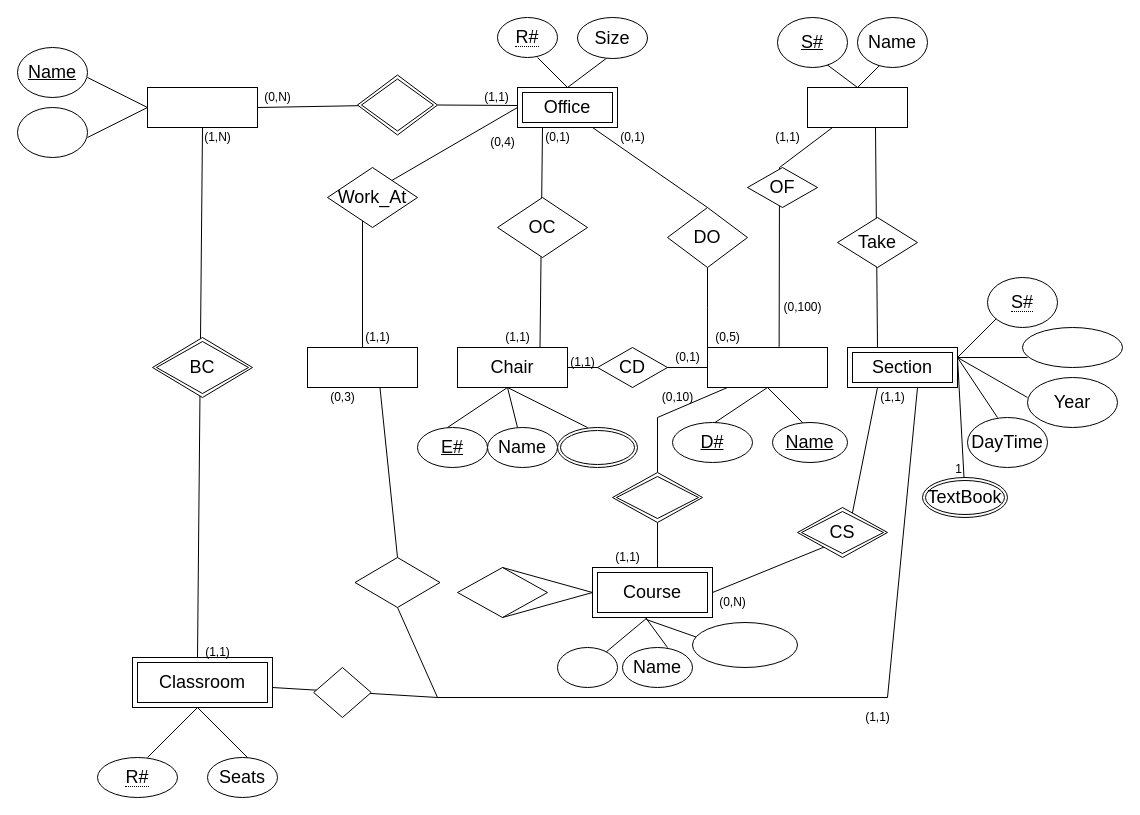
Image size: 1140x815. Some labels were removed from this diagram. Here are the shapes that lost their labels. From the top down, the box of each, then its label:
(146, 86, 258, 128): Building
(356, 74, 438, 135): BO
(806, 86, 908, 128): Student
(16, 106, 88, 158): B#
(306, 346, 418, 388): Instructor
(706, 346, 828, 388): Department
(1022, 326, 1122, 368): Semester
(556, 426, 638, 468): Phone #
(612, 472, 702, 522): DC
(354, 556, 440, 608): IS
(456, 566, 548, 618): Prerequisite
(692, 622, 798, 668): Credit_Hour
(556, 646, 618, 688): C#
(313, 666, 371, 718): SC
